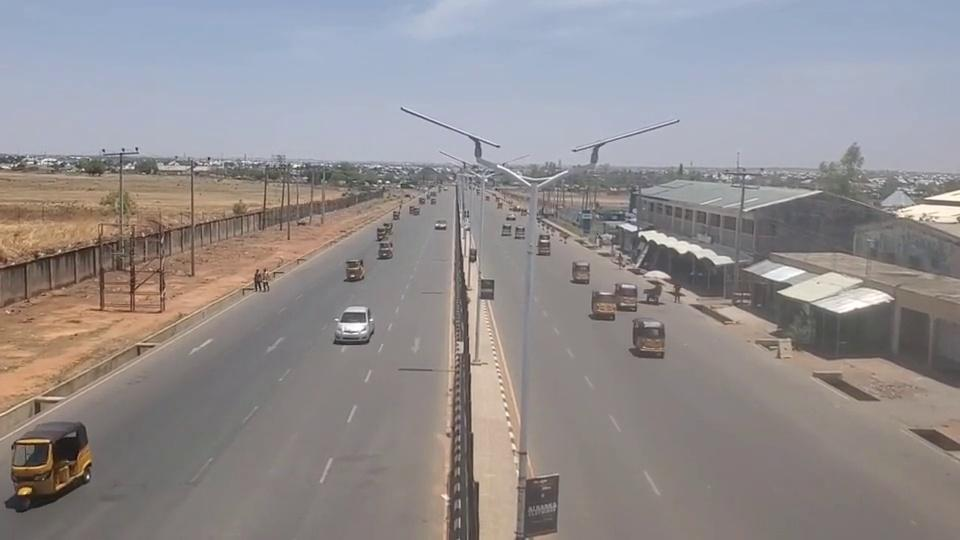car: (334, 306, 374, 343)
keke: (9, 420, 92, 499), (632, 317, 667, 357), (344, 259, 365, 281)
